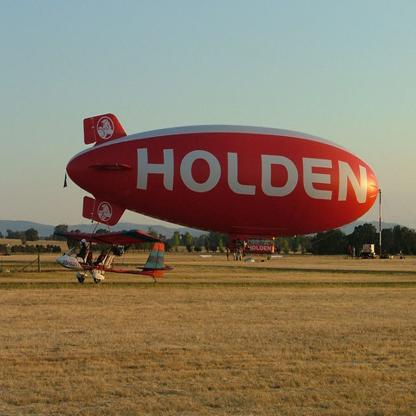Airship: (59, 112, 388, 259)
